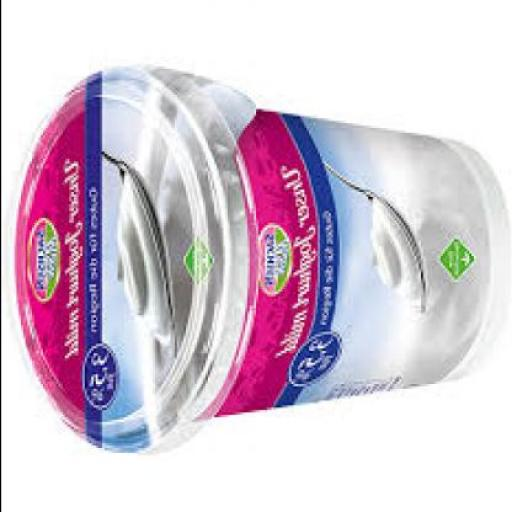plastic: (1, 64, 510, 452)
